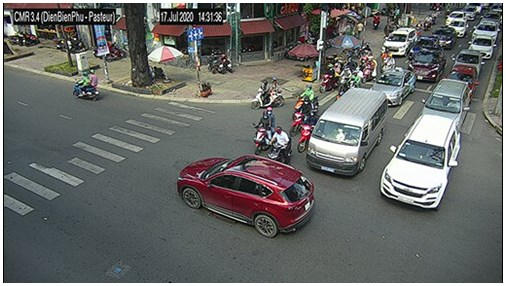di_bo: (356, 22, 363, 41)
xe_hoi: (177, 154, 315, 236), (380, 114, 460, 209), (419, 79, 472, 129), (370, 69, 415, 106), (408, 49, 447, 80), (382, 27, 418, 56), (449, 65, 478, 96), (468, 35, 496, 58), (452, 49, 482, 69), (432, 27, 456, 49), (471, 22, 498, 39), (410, 36, 437, 51), (448, 19, 466, 38), (447, 10, 467, 25)
xe_khach: (306, 88, 386, 176)
xe_may: (252, 79, 284, 108), (252, 108, 273, 152), (270, 127, 293, 165), (72, 69, 100, 100), (298, 110, 316, 154), (294, 85, 318, 116), (320, 63, 337, 93), (363, 57, 377, 83), (338, 66, 350, 95), (288, 109, 301, 129), (349, 70, 360, 88), (373, 12, 380, 31)
